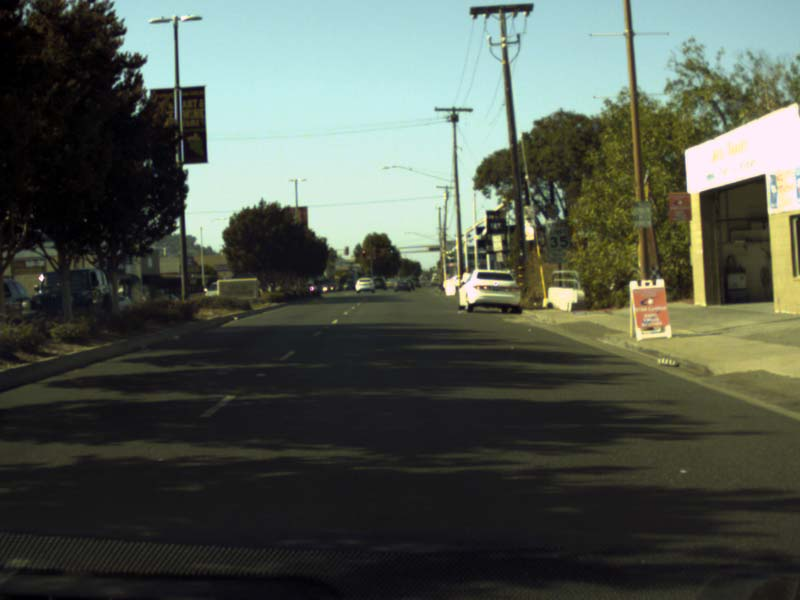Green: (390, 245, 393, 253)
Red: (362, 249, 365, 257)
